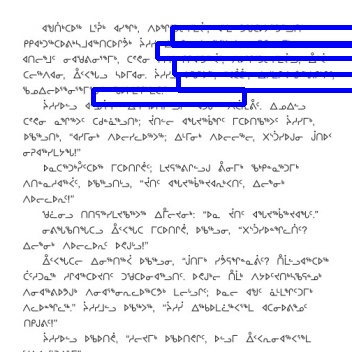inuktitut: (20, 66, 336, 82), (21, 50, 328, 66), (39, 18, 305, 36), (22, 36, 293, 51), (18, 82, 169, 97)
